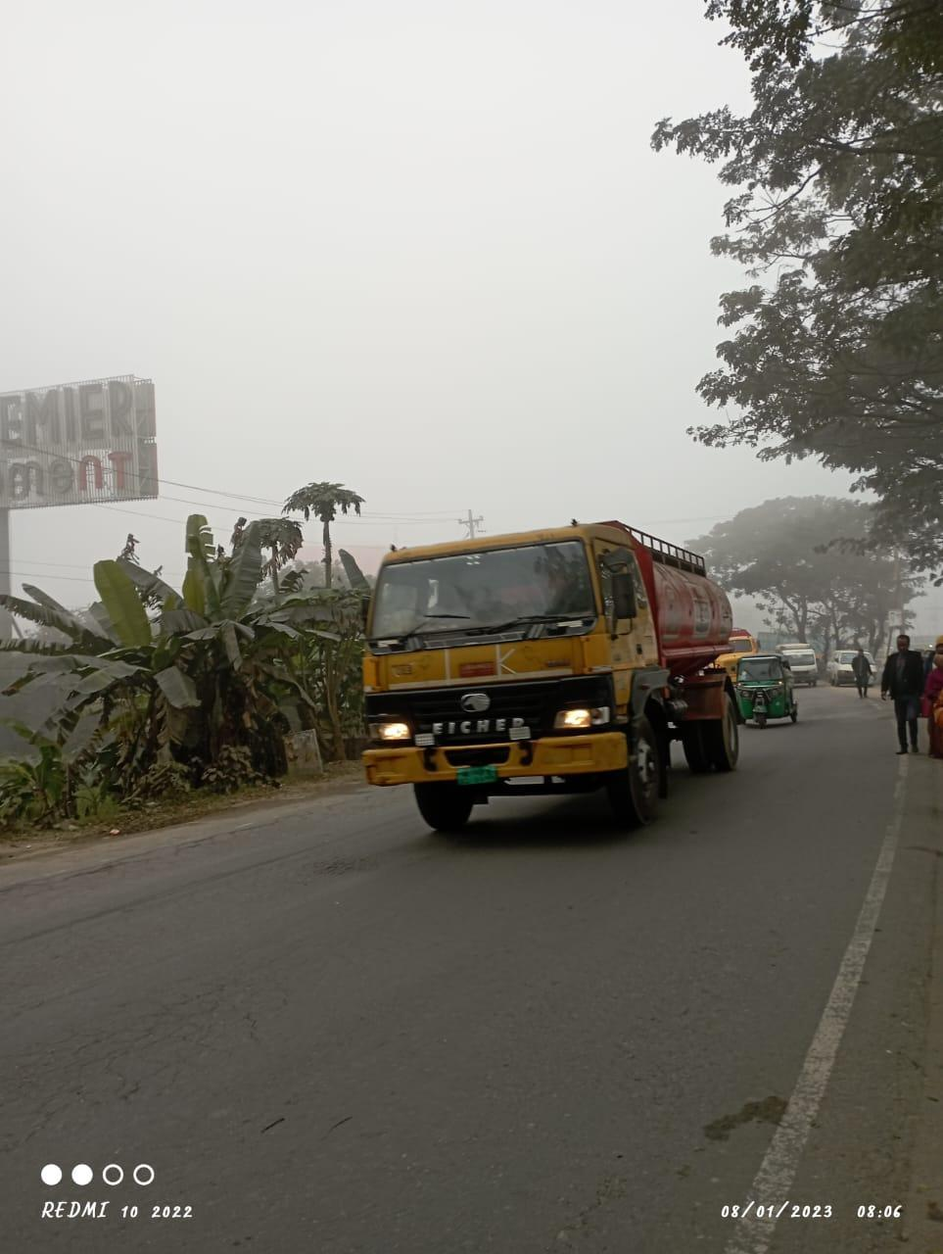Car: (825, 642, 877, 687)
Truck: (347, 506, 745, 816)
